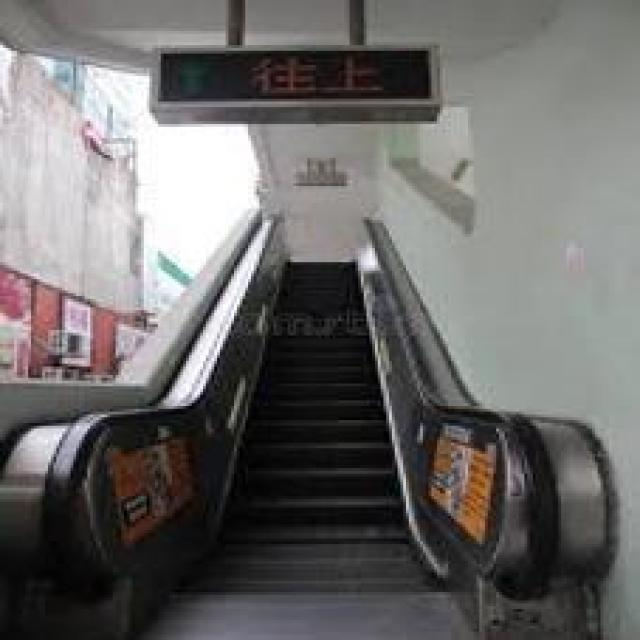upstair: (218, 398, 418, 534)
